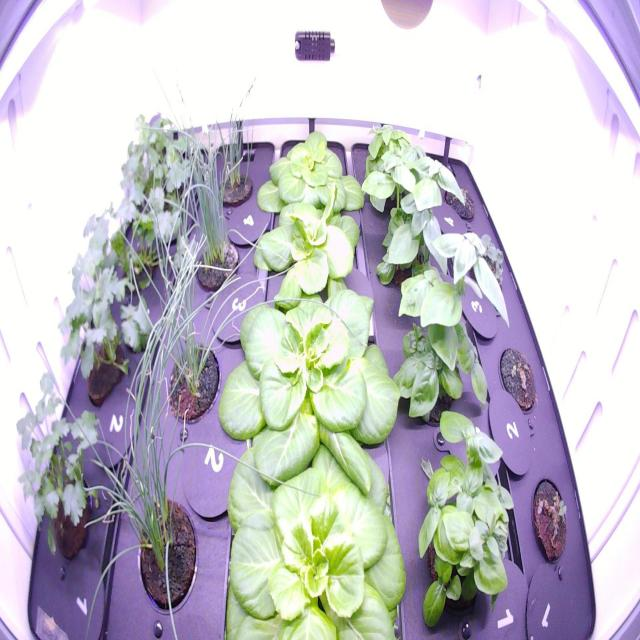germination: (528, 469, 572, 572), (494, 340, 540, 422)
young: (208, 274, 408, 503), (208, 430, 412, 640), (248, 176, 366, 316), (244, 122, 370, 230)
